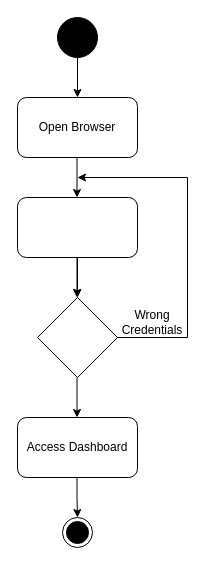
The diagram is 205 pixels wide and 565 high, and some of its shapes have lost their labels. Each missing label, with the centre of its shape:
"Check the credentials" belongs at (x=77, y=337).
"Enter the credentials" belongs at (x=77, y=227).
